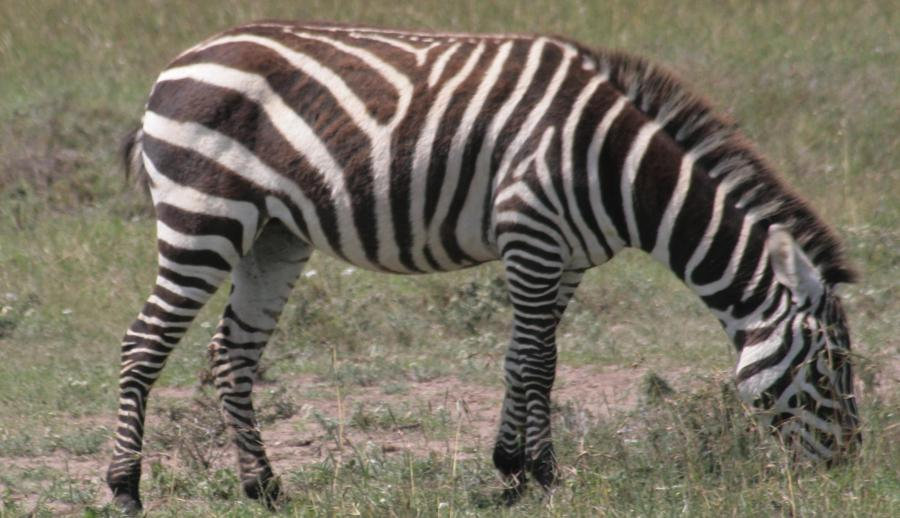zebra_plains: (132, 4, 606, 267)
